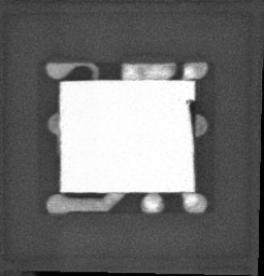DIE_BROKEN: (186, 98, 196, 133)
